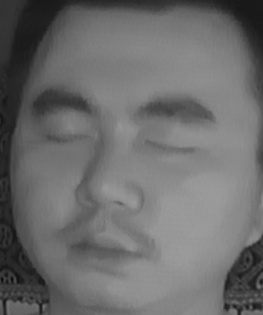blink: (140, 127, 192, 163), (40, 118, 95, 152)
mouth: (57, 220, 154, 280)
